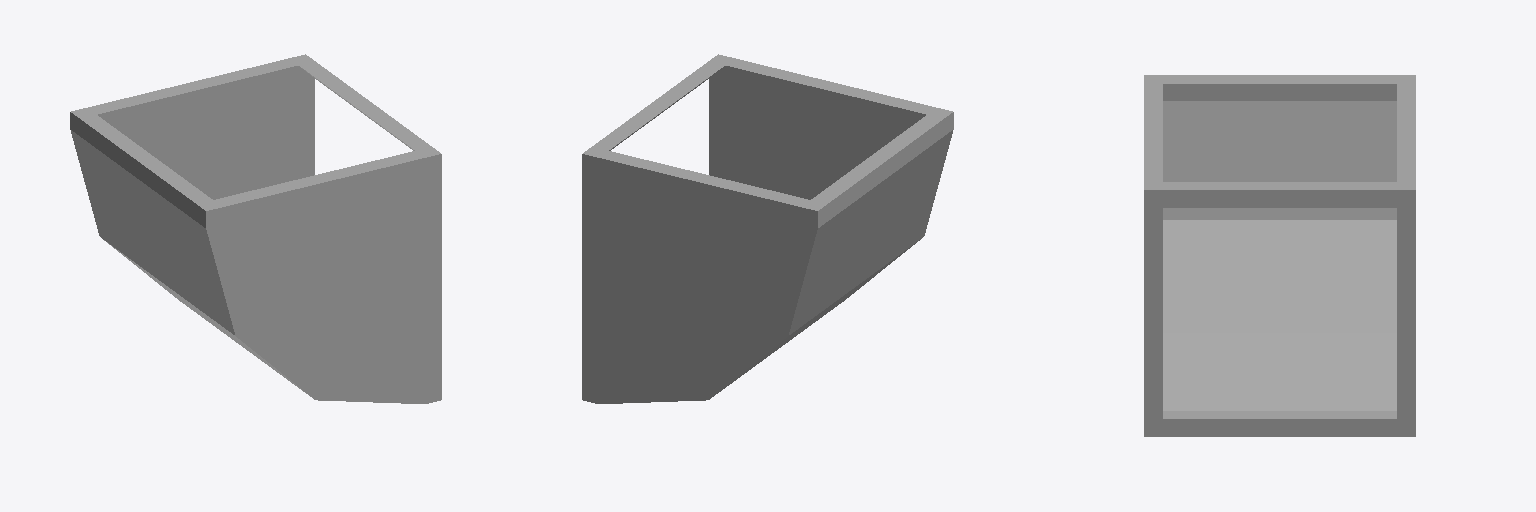
The model's file is ShaftCornerShort.obj.
3 views of the same model, side by side, from view 1: azimuth 30°, elevation 25°; view 2: azimuth 150°, elevation 25°; view 3: azimuth 270°, elevation 25° (orthographic).
Parts seen in each view (by area): view 1: ShaftCornerShort_Main-Aluminum; view 2: ShaftCornerShort_Main-Aluminum; view 3: ShaftCornerShort_Main-Aluminum.
Boxes of the visible parts, box(x1,y1,x2,y2) form: ShaftCornerShort_Main-Aluminum: box(70, 54, 441, 403); ShaftCornerShort_Main-Aluminum: box(582, 54, 953, 403); ShaftCornerShort_Main-Aluminum: box(1144, 75, 1415, 436).
Size of the model in its own units: 1.4 by 1.4 by 1.4.